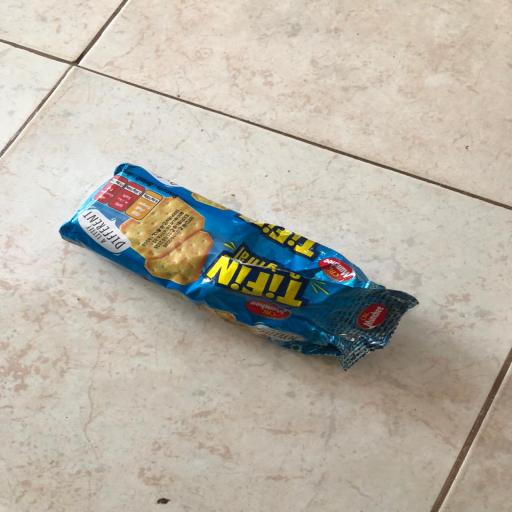waste: (45, 160, 430, 381)
